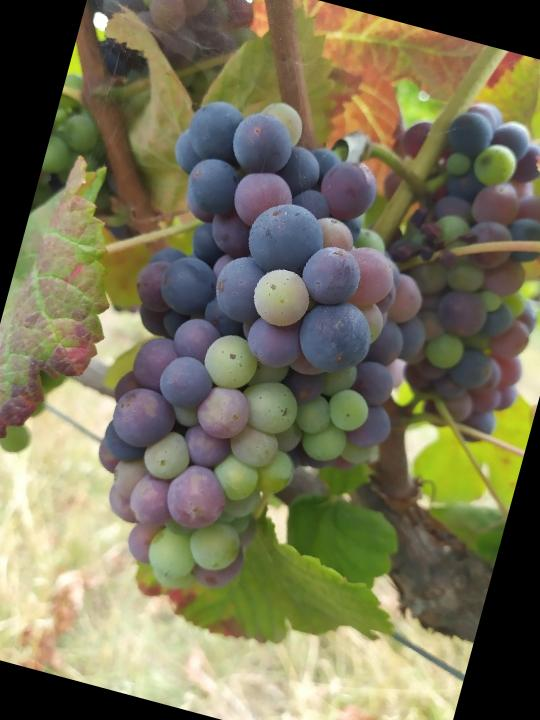grape: (60, 75, 470, 637)
